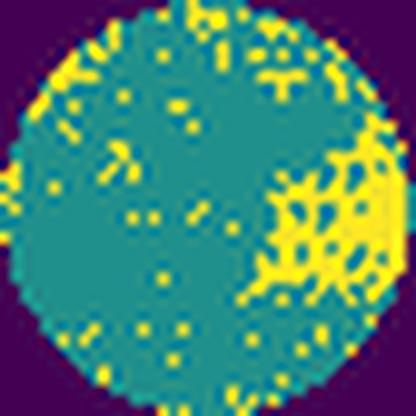Edge-Loc: (235, 114, 406, 309)
